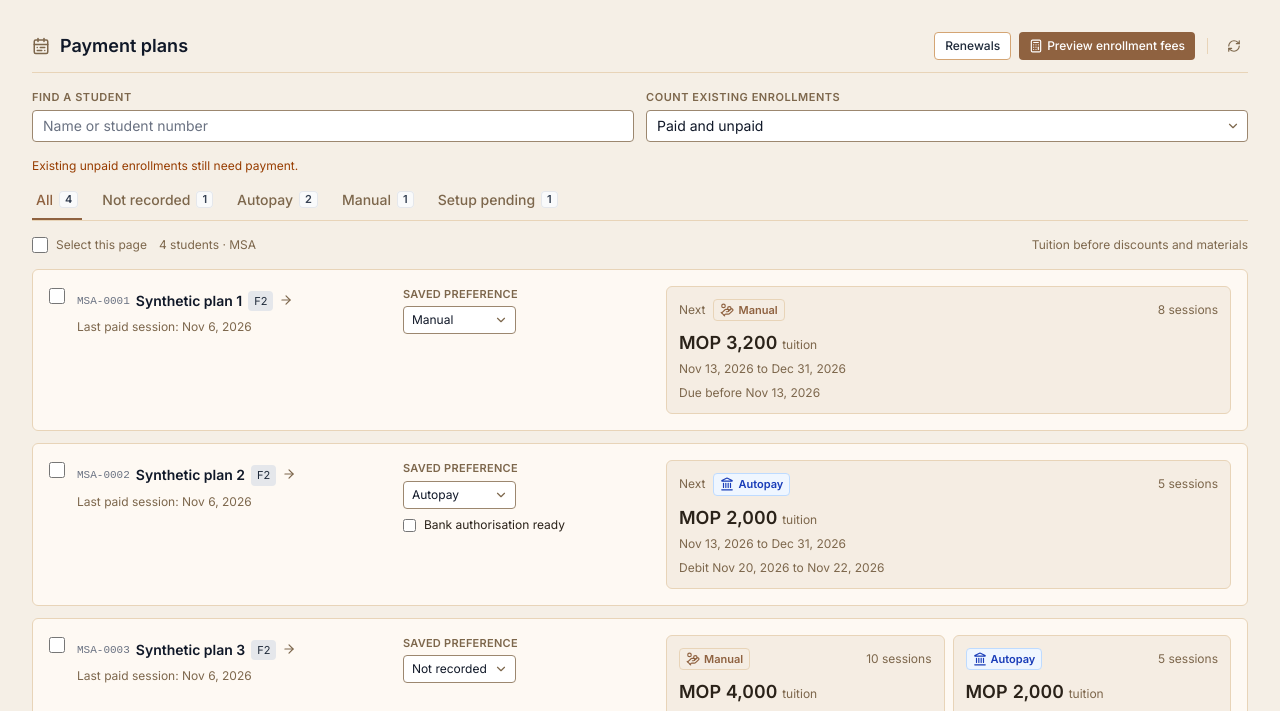
Test: payment plans on the existing student roster › records a choice inline while financial workflow writes remain disabled
The width and height of the screenshot is (1280, 711).
Expected: the text "Synthetic plan 3" is shown, [136,640,245,660]
Select "Autopay" in the dropdown named "Payment method for Synthetic plan 3" at {"x": 459, "y": 669}, box [403,655,516,683]
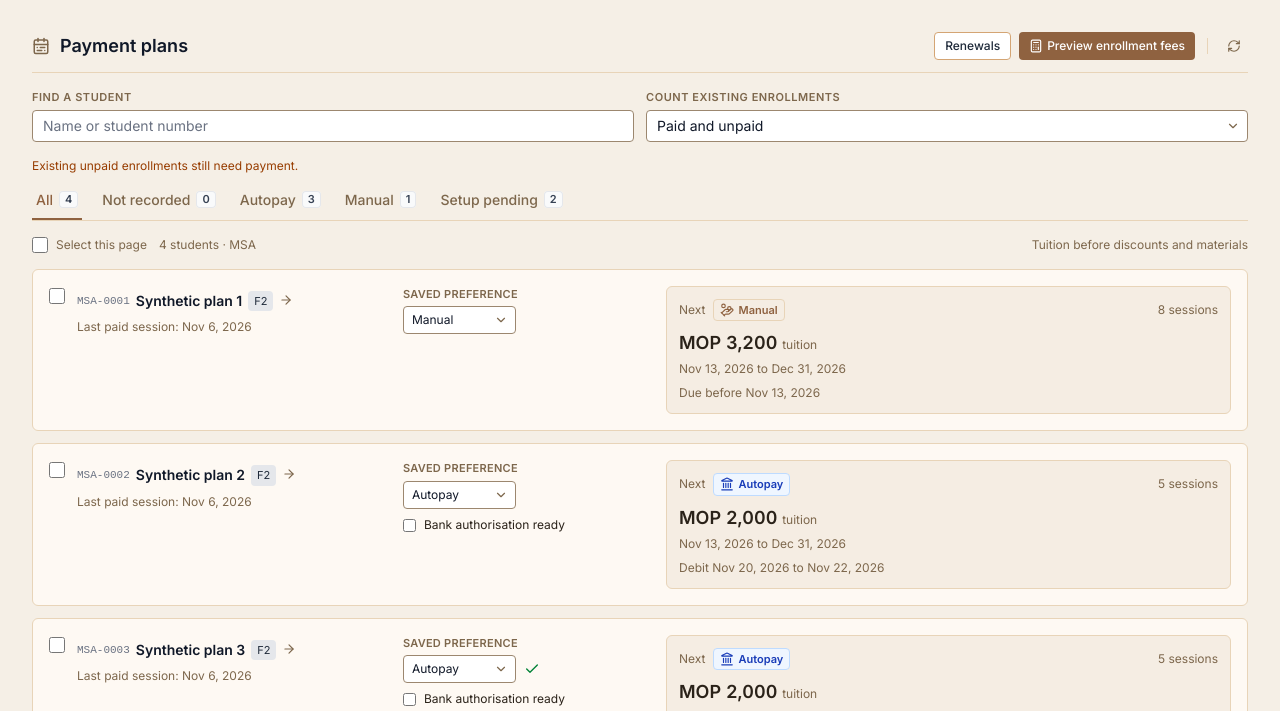
Expected: the 2nd text "MOP 2,000" is shown, [679,681,777,702]
Expected: the text "MOP 4,000" is gone
Expected: the checkbox labelled "Bank authorisation ready" below "Synthetic plan 3" is not checked, [403,693,416,706]
